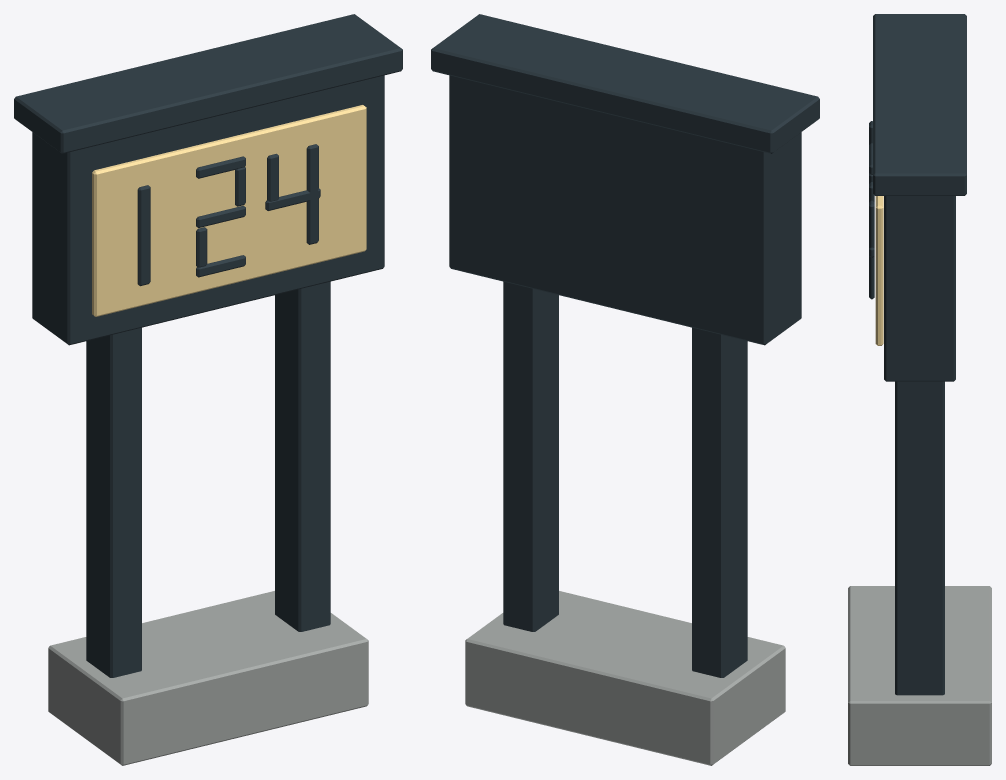
Rendered from b18_backlit_address_pedestal.glb.
3 renders of one model, left to right at view 1: azimuth 30°, elevation 25°; view 2: azimuth 150°, elevation 25°; view 3: azimuth 270°, elevation 25°, orthographic. The views are drawn at different scales.
Visible parts, largest first — view 1: b18_backlit_address_pedestal; view 2: b18_backlit_address_pedestal; view 3: b18_backlit_address_pedestal.
Part boxes in pixels (left/top/right/bottom): b18_backlit_address_pedestal: left=14, top=14, right=402, bottom=765; b18_backlit_address_pedestal: left=431, top=14, right=819, bottom=765; b18_backlit_address_pedestal: left=848, top=14, right=991, bottom=765.
Bounding box in the file's own units: 0.69 × 1.23 × 0.26.
